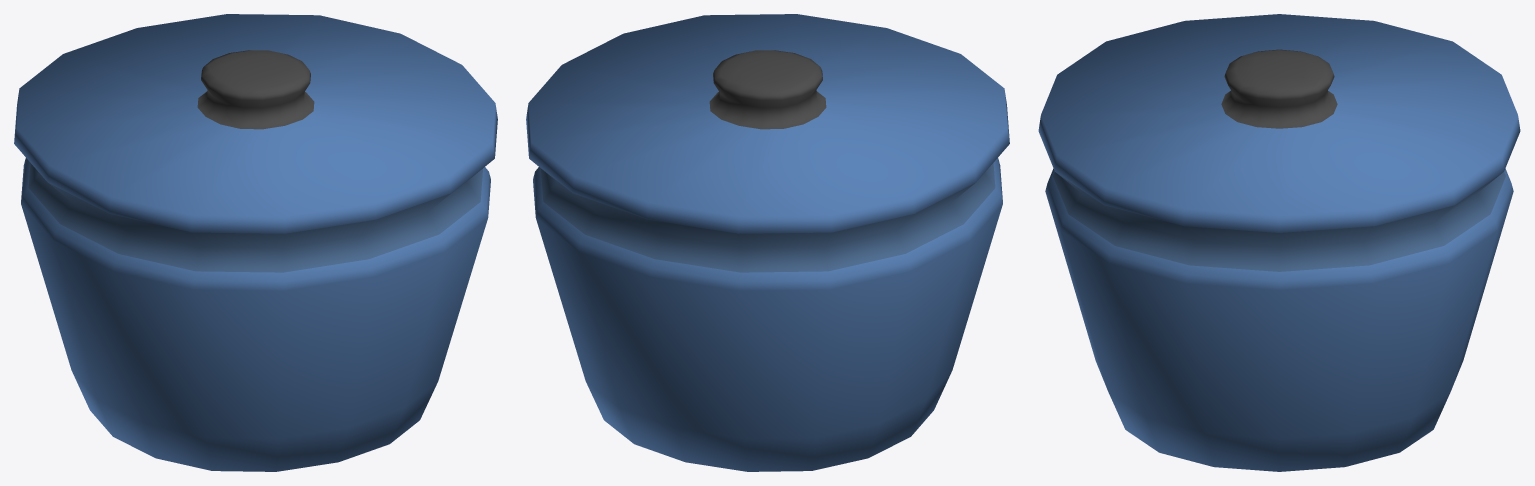
The model's file is Cooking pot.fbx.
The picture shows the model from 3 angles, left to right: view 1: azimuth 30°, elevation 25°; view 2: azimuth 150°, elevation 25°; view 3: azimuth 270°, elevation 25°; orthographic projection.
Visible parts, largest first — view 1: Cooking pot; view 2: Cooking pot; view 3: Cooking pot.
Boxes of the visible parts, box(x1,y1,x2,y2) form: Cooking pot: box(14, 14, 497, 471); Cooking pot: box(526, 14, 1009, 471); Cooking pot: box(1038, 14, 1520, 471).
Bounding box in the file's own units: 31.57 × 25.58 × 31.57.
